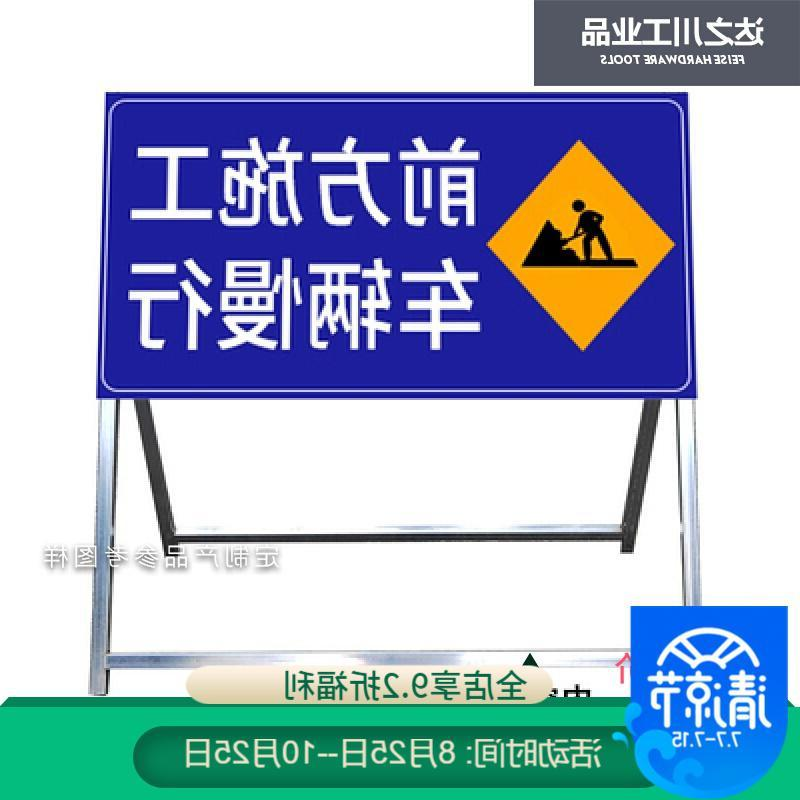sign: (104, 97, 694, 393)
